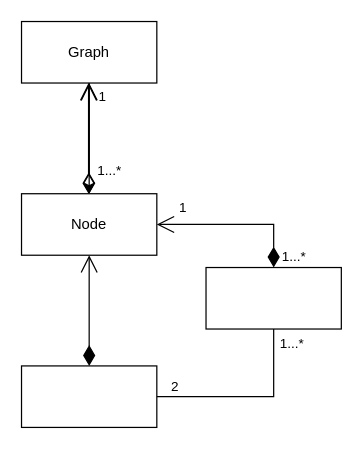
Image size: 363x449. Some labels were removed from this diagram. The box of each missing label's shape, as (x1, y1, x2, y2) in pixels:
Location: (20, 365, 157, 427)
Trip: (205, 266, 341, 329)
